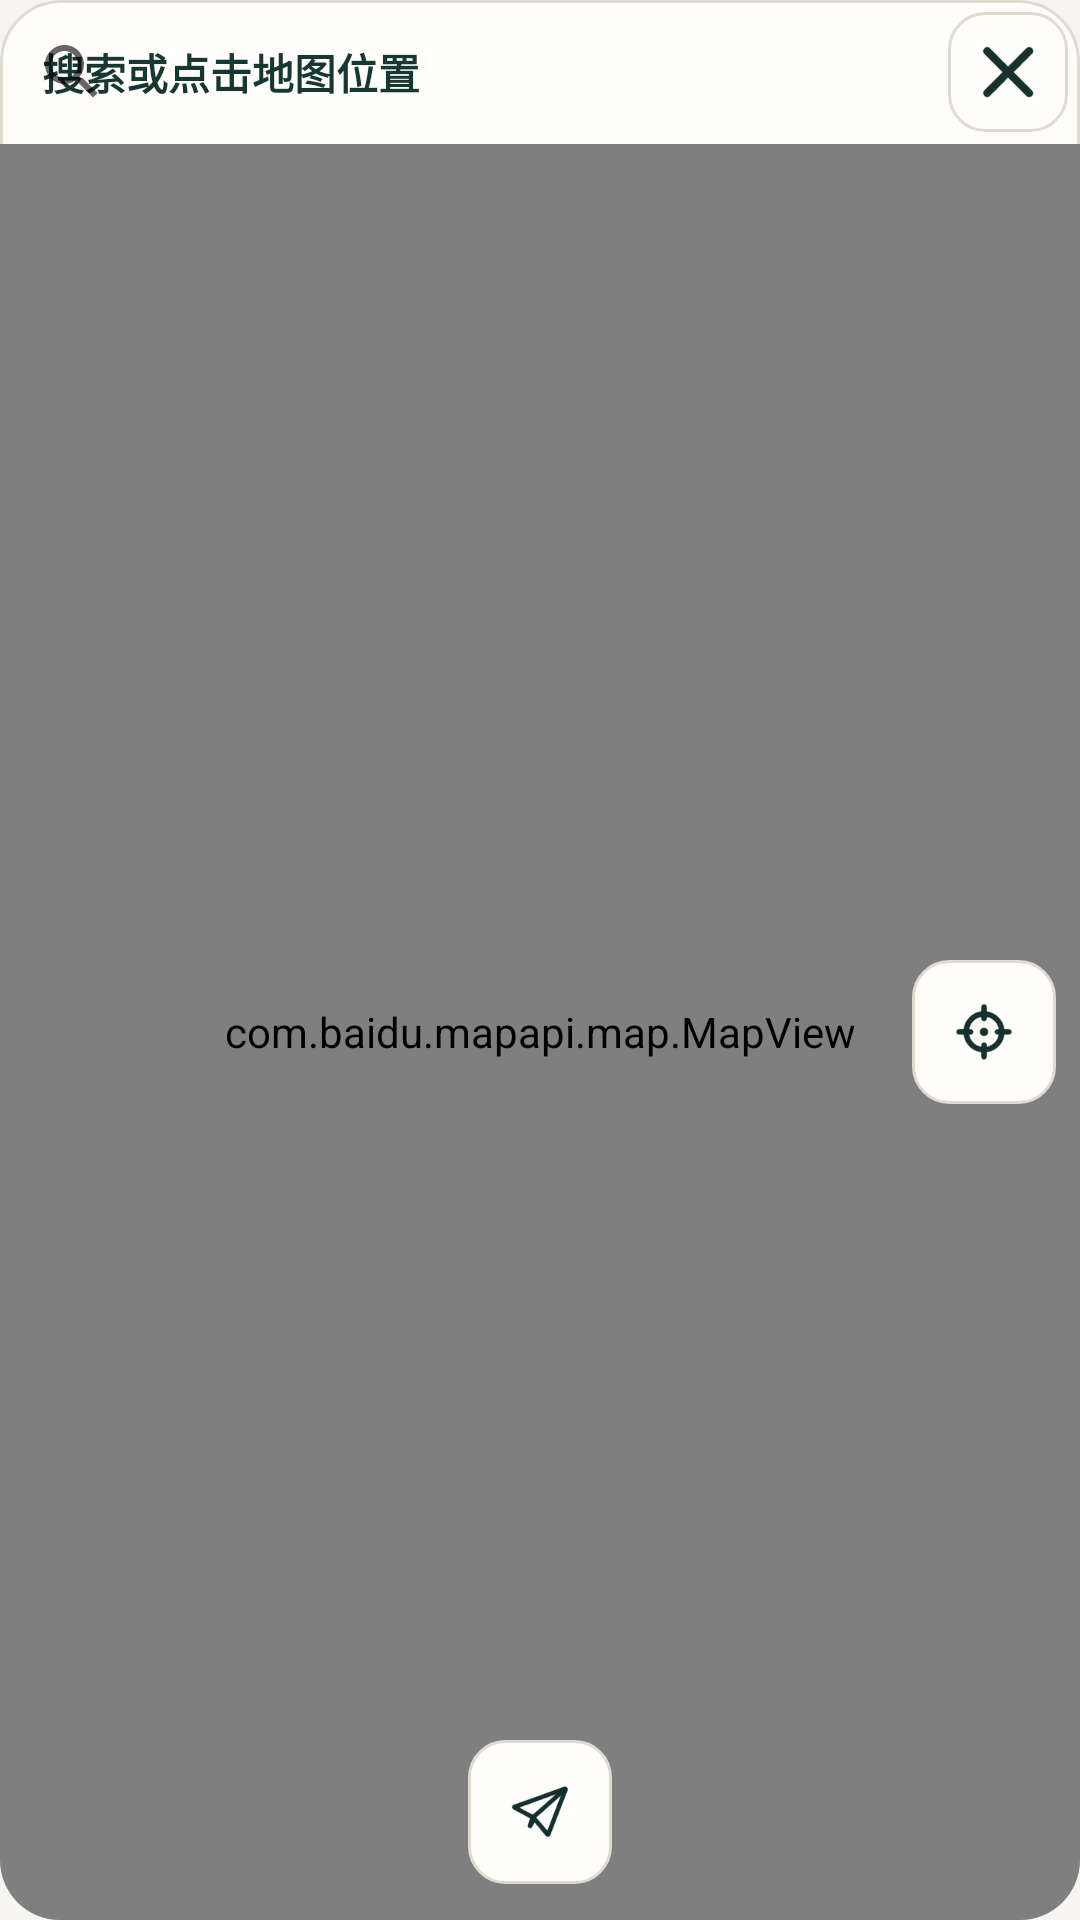

Icon bounding boxes for this 1080 × 1920 phone screenshot, format (x1, y1, x2, y2):
使用此位置: (468, 1740, 612, 1884)
关闭: (948, 12, 1068, 132)
返回当前位置: (912, 960, 1056, 1104)
